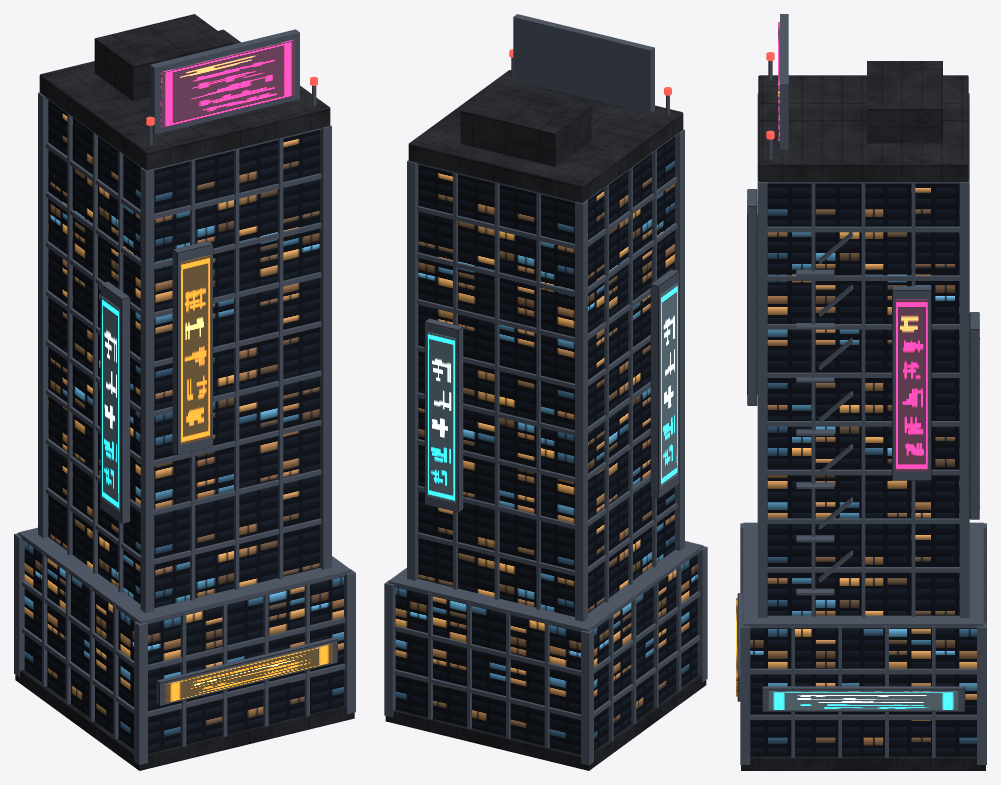
The model's file is tower_cyber_neon.glb.
The picture shows the model from 3 angles, left to right: view 1: azimuth 30°, elevation 25°; view 2: azimuth 150°, elevation 25°; view 3: azimuth 270°, elevation 25°; orthographic projection. The views are drawn at different scales.
Parts seen in each view (by area): view 1: TowerCyberNeon; view 2: TowerCyberNeon; view 3: TowerCyberNeon.
Boxes of the visible parts, box(x1,y1,x2,y2) form: TowerCyberNeon: box(14, 14, 355, 770); TowerCyberNeon: box(384, 14, 707, 770); TowerCyberNeon: box(736, 14, 986, 770).
Bounding box in the file's own units: 14.54 × 42.9 × 14.54.
8 materials, 3 textured.
